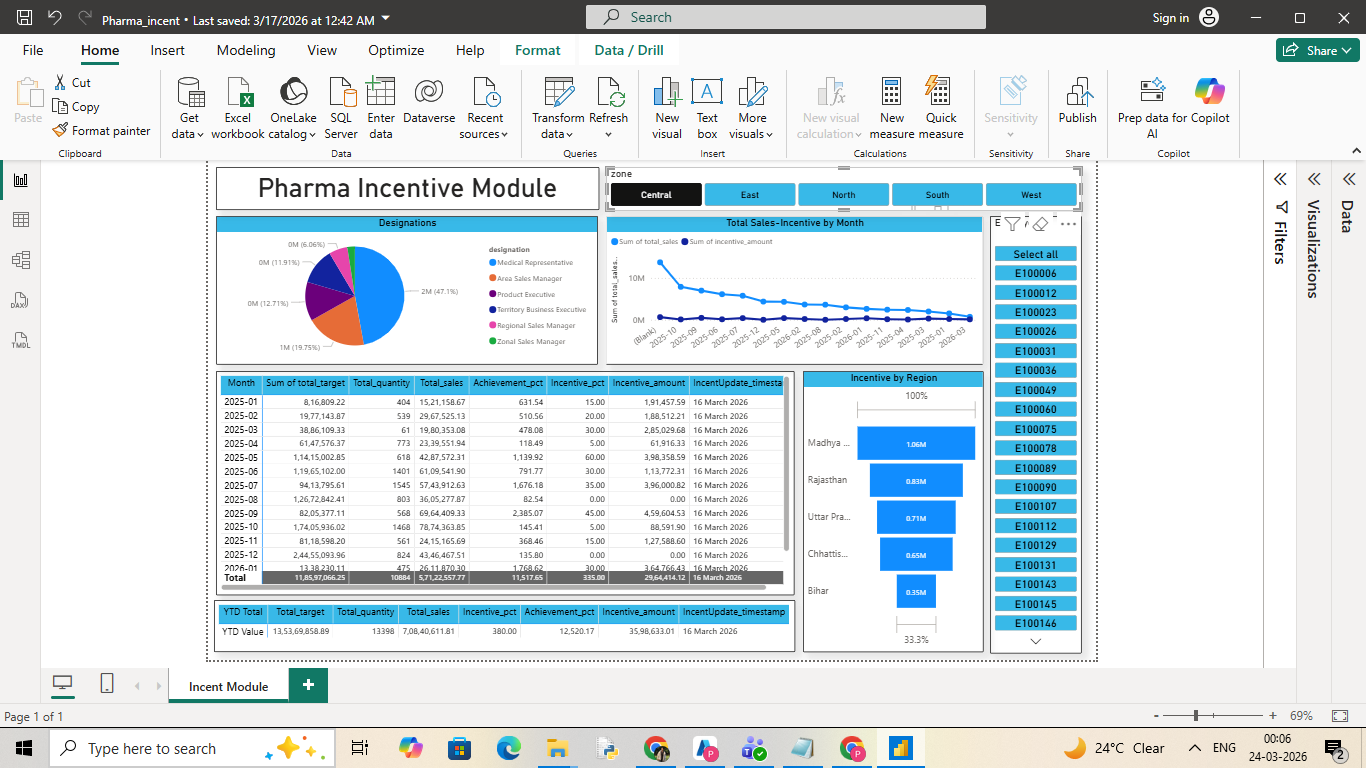

The page's visual inventory and layout, read from the dashboard file:
{"tool":"powerbi","page":{"name":"Incent Module","canvas":[1280,720],"ordinal":0},"visuals":[{"type":"advancedSlicerVisual","fields":{"Values":["Raw.zone"]},"box":[573.3,10,685,63.3],"z":0},{"type":"pivotTable","fields":{"Rows":["Raw.month_key"],"Values":["Sum(Raw.total_target)","Sum(Raw.total_quantity)","Sum(Raw.total_sales)","Sum(Raw.achievement_pct)","Sum(Raw.incentive_pct)","Sum(Raw.incentive_amount)","Min(Raw.incentUpdate_timestamp)"]},"box":[11.7,303.3,833.3,323.3],"z":1000},{"type":"pieChart","title":"Designations","fields":{"Category":["Raw.designation"],"Y":["Sum(Raw.incentive_amount)"]},"box":[11.4,80,550,214.3],"z":2000},{"type":"lineChart","title":"Total Sales-Incentive by Month","fields":{"Category":["Raw.month_key"],"Y":["Sum(Raw.total_sales)","Sum(Raw.incentive_amount)"]},"box":[572.9,80,542.9,214.3],"z":3000},{"type":"pivotTable","fields":{"Rows":["Raw.YTD Total"],"Values":["Sum(Raw.total_target)","Sum(Raw.total_quantity)","Sum(Raw.total_sales)","Sum(Raw.incentive_pct)","Sum(Raw.achievement_pct)","Sum(Raw.incentive_amount)","Min(Raw.incentUpdate_timestamp)"]},"box":[8.3,633.3,836.7,75],"z":4000},{"type":"advancedSlicerVisual","title":"Employee_id","fields":{"Values":["Raw.employee_id"]},"box":[1126,80,132,630],"z":5000},{"type":"textbox","box":[11.7,10,551.7,61.7],"z":6000},{"type":"funnel","title":"Incentive by Region","fields":{"Category":["Raw.region"],"Y":["Sum(Raw.incentive_amount)"]},"box":[856.7,303.3,260,405],"z":7000}]}

Visuals, with their boxes on the page's 1280x720 design canvas (x1, y1, x2, y2). These are canvas units, not pixel positions in the 1366x768 screenshot, which may show the page scaled, cropped or inside an application window:
advancedSlicerVisual - Raw.zone: 573,10,1258,73
pivotTable - Raw.month_key x Sum(Raw.total_target): 12,303,845,627
"Designations" pieChart: 11,80,561,294
"Total Sales-Incentive by Month" lineChart: 573,80,1116,294
pivotTable - Raw.YTD Total x Sum(Raw.total_target): 8,633,845,708
"Employee_id" advancedSlicerVisual: 1126,80,1258,710
textbox: 12,10,563,72
"Incentive by Region" funnel: 857,303,1117,708
